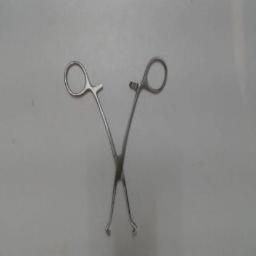Babcock Tissue Forceps: (62, 55, 172, 239)
